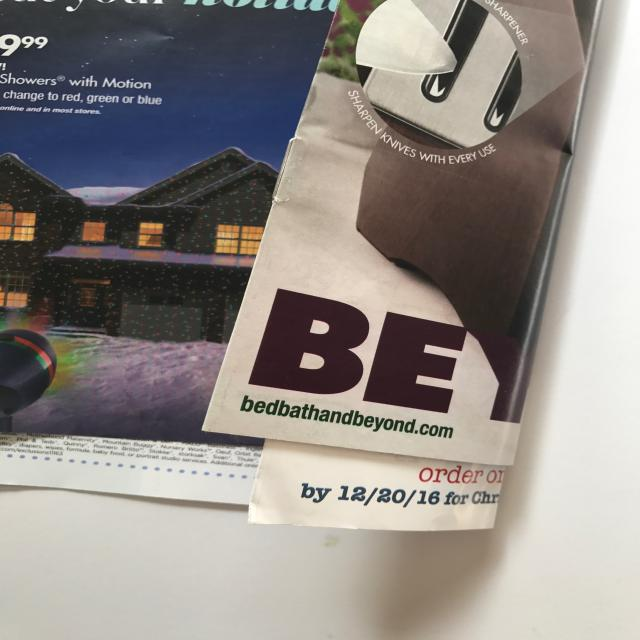paper: (1, 1, 606, 538)
